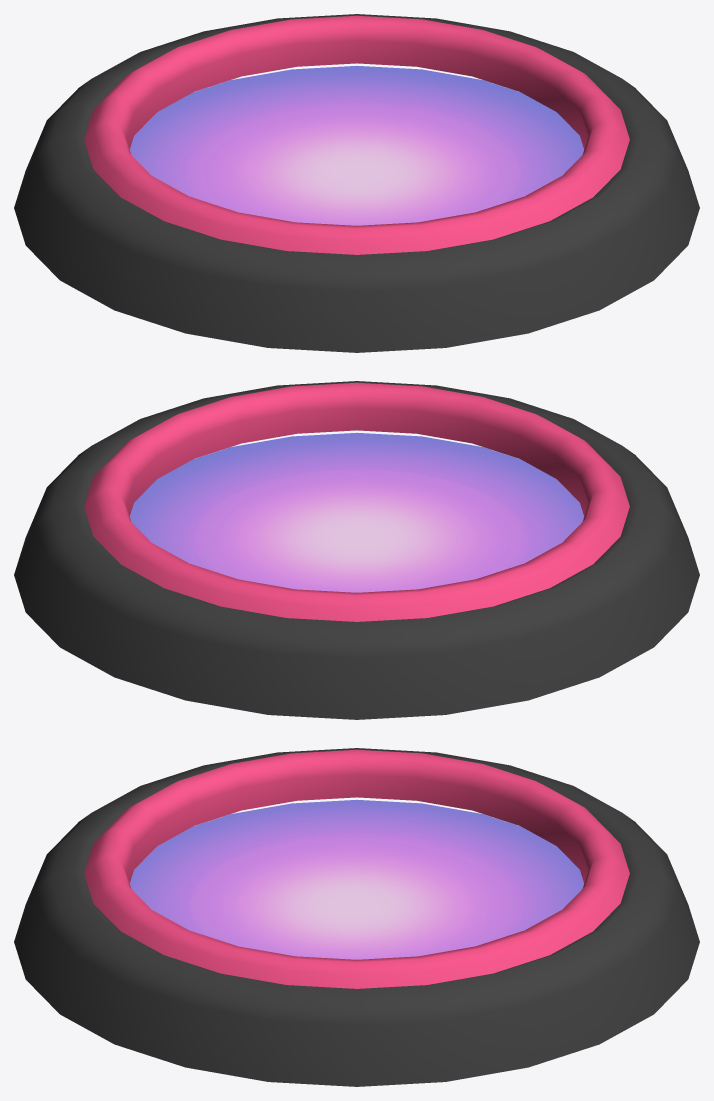
Rendered from ImposterEscape_teleport.fbx.
The picture shows the model from 3 angles, top to bottom: view 1: azimuth 30°, elevation 25°; view 2: azimuth 150°, elevation 25°; view 3: azimuth 270°, elevation 25°; orthographic projection.
Parts seen in each view (by area): view 1: ImposterEscape_teleport_geo; view 2: ImposterEscape_teleport_geo; view 3: ImposterEscape_teleport_geo.
Boxes of the visible parts, bbox=[...] form: ImposterEscape_teleport_geo: bbox=[14, 14, 699, 352]; ImposterEscape_teleport_geo: bbox=[14, 381, 699, 719]; ImposterEscape_teleport_geo: bbox=[14, 748, 699, 1086].
Bounding box in the file's own units: 6.77 × 0.9328 × 6.77.
1 material, 1 textured.
